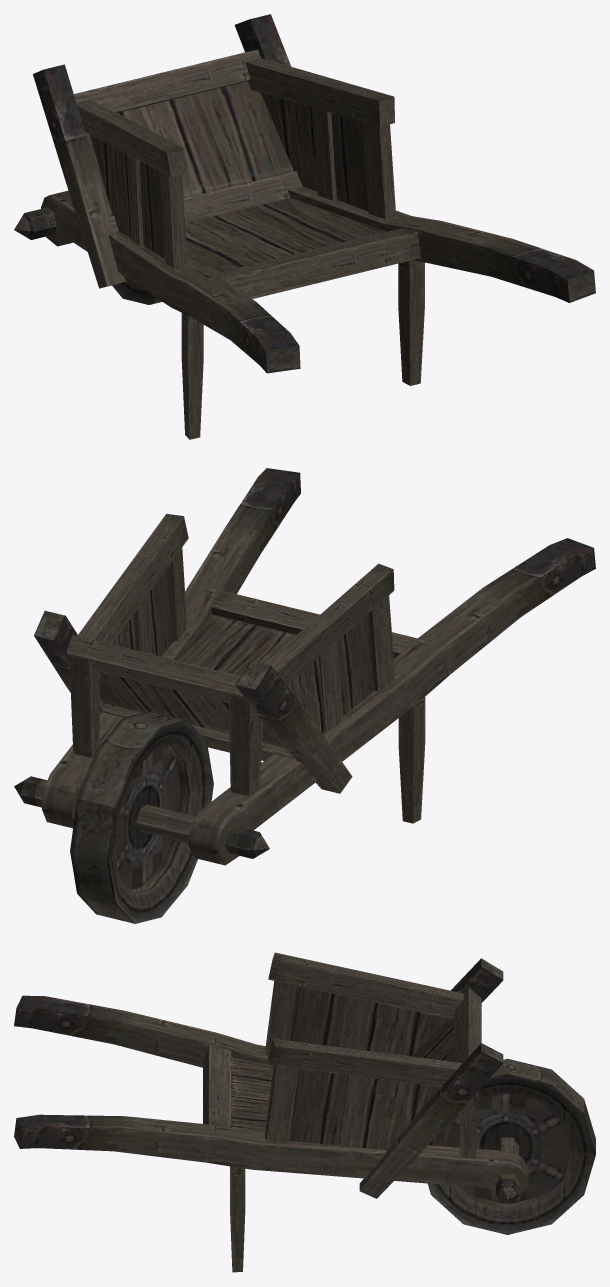
The model's file is eso_gu11_Wheelbarrow-transformed.glb.
The picture shows the model from 3 angles, top to bottom: view 1: azimuth 30°, elevation 25°; view 2: azimuth 150°, elevation 25°; view 3: azimuth 270°, elevation 25°; orthographic projection. The views are drawn at different scales.
Visible parts, largest first — view 1: default; view 2: default; view 3: default.
Part boxes in pixels (box(x1,y1,x2,y2)): default: box(14, 14, 595, 439); default: box(14, 468, 595, 923); default: box(14, 952, 595, 1272).
Bounding box in the file's own units: 1.16 × 0.9135 × 2.11.
1 material, 1 textured.
